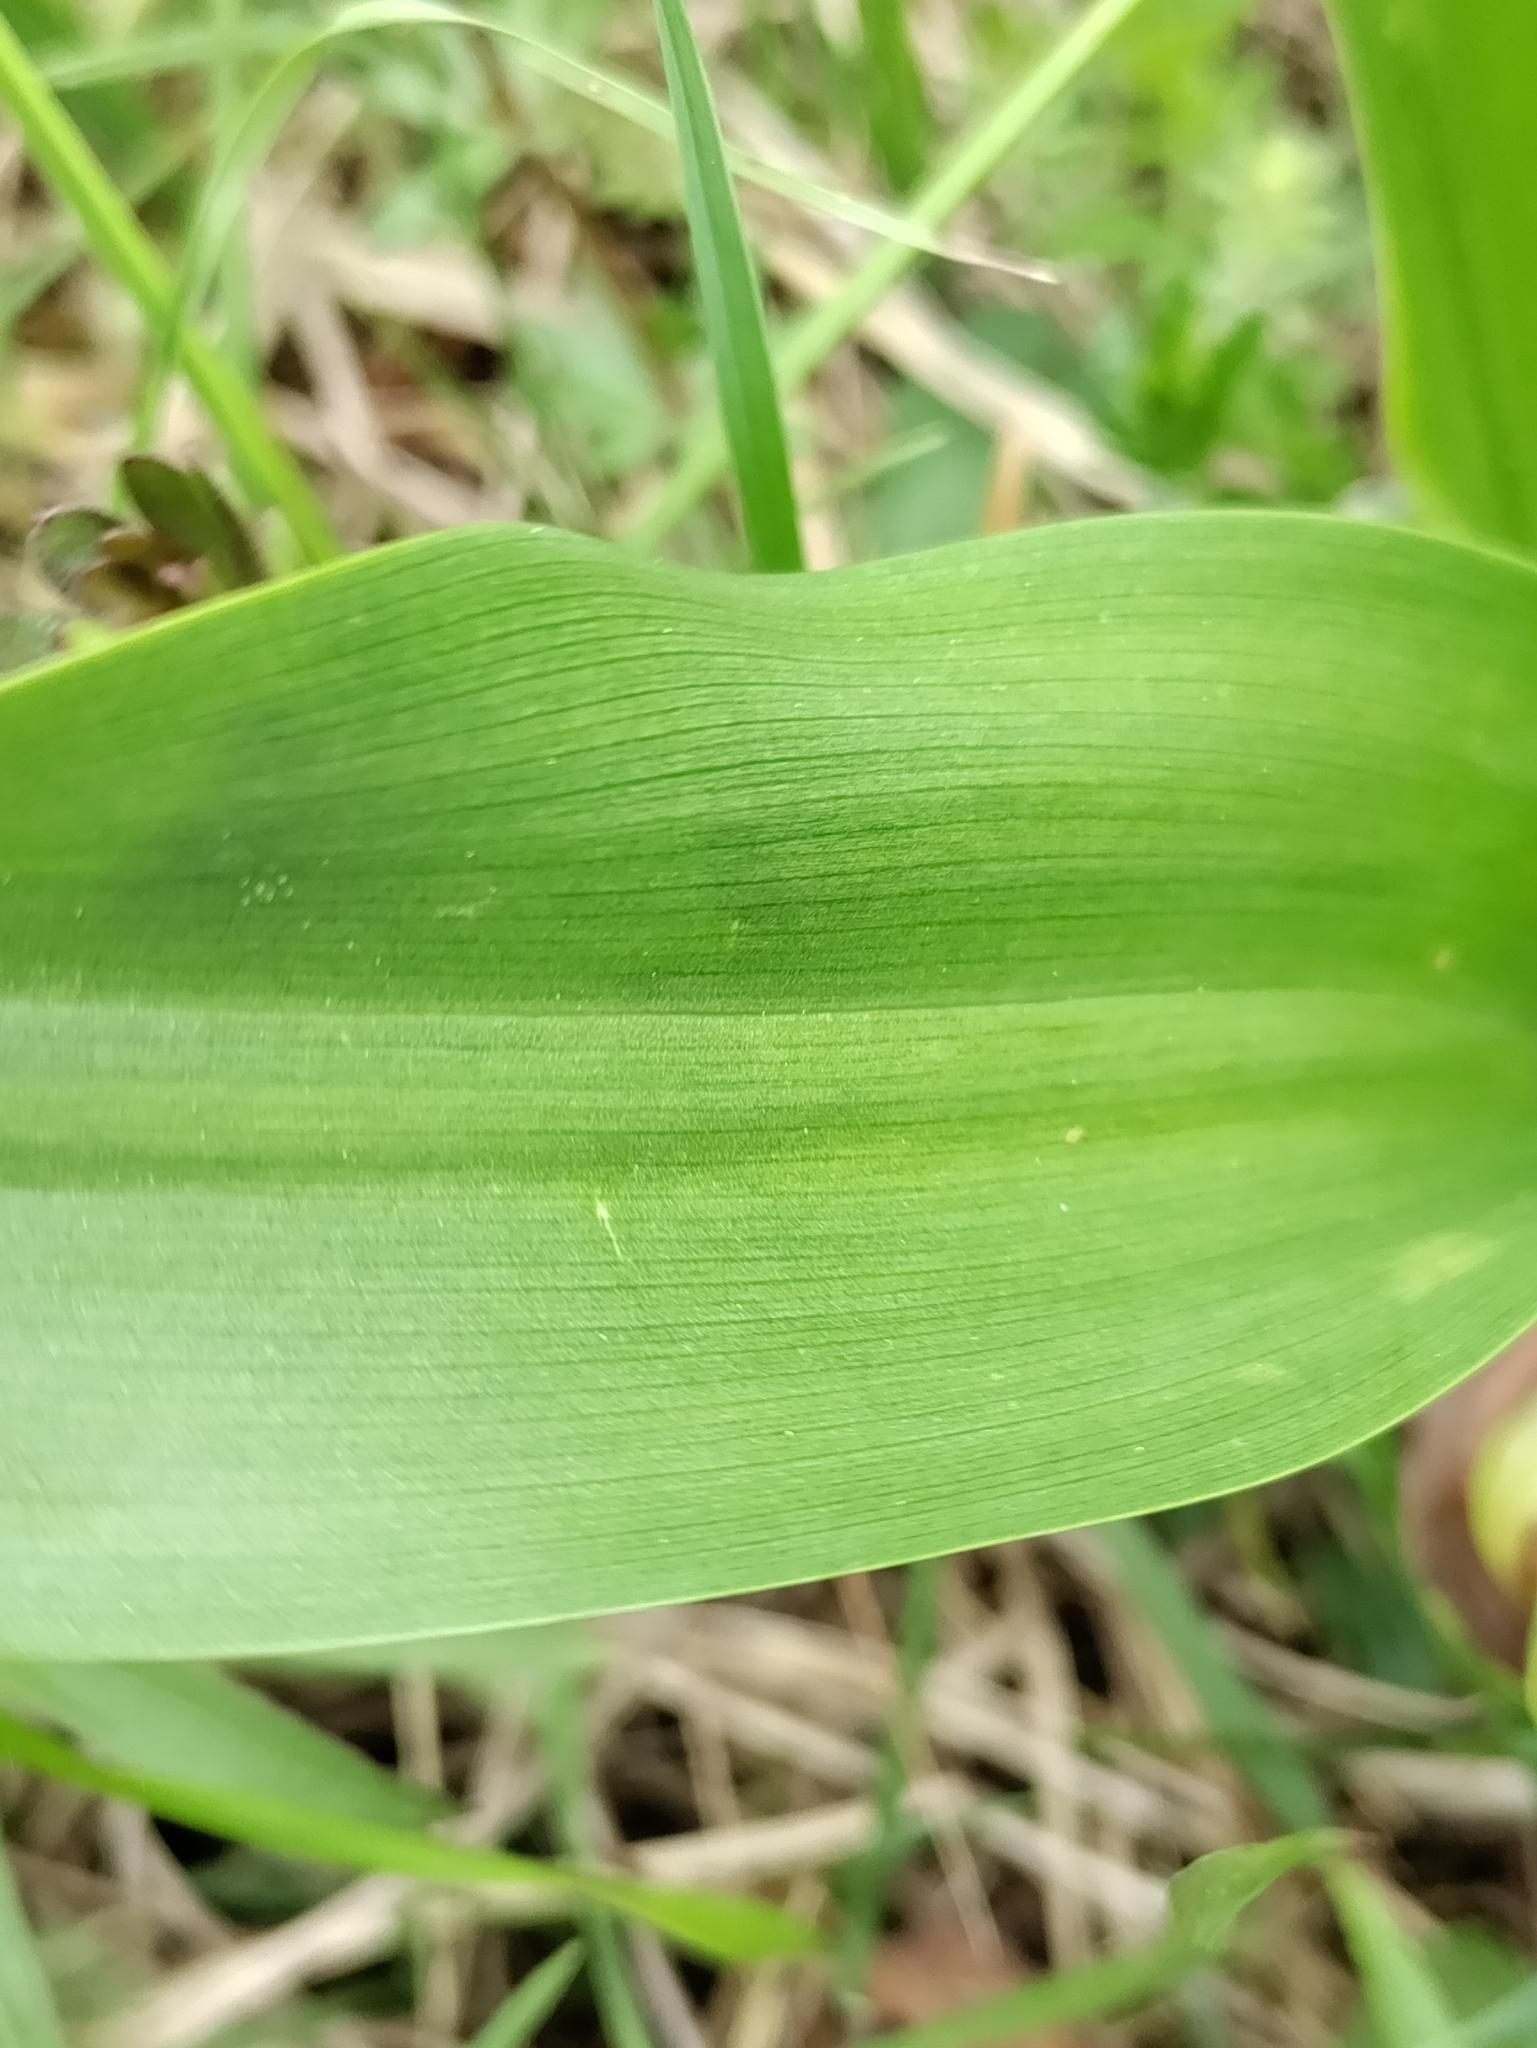Colchicum autumnale L: (11, 484, 1537, 1682)
